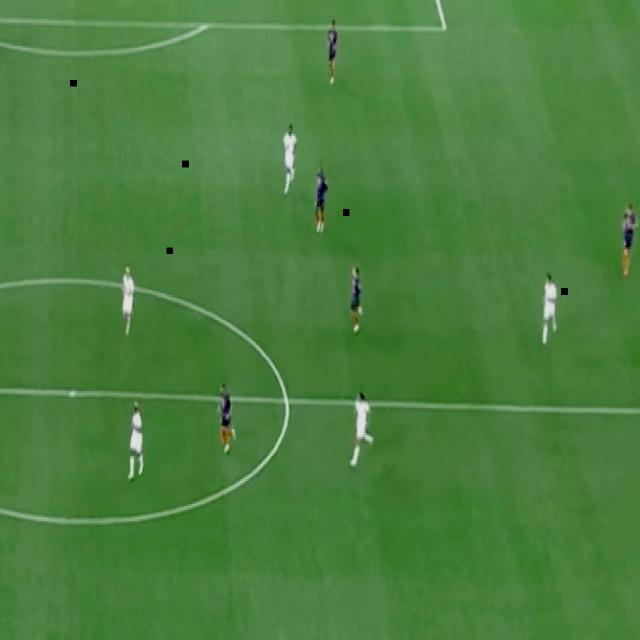player-white: (349, 390, 375, 470), (618, 200, 640, 282), (216, 383, 238, 455), (540, 271, 560, 349), (127, 399, 145, 483), (282, 122, 298, 196), (120, 266, 136, 338), (314, 165, 330, 235), (349, 264, 365, 334), (326, 19, 340, 88)
